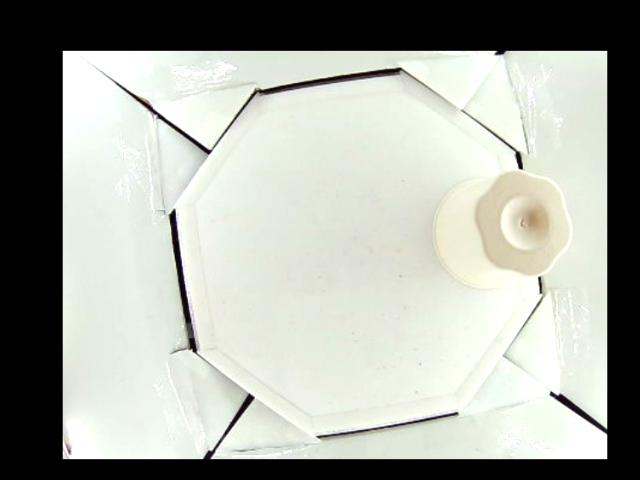Cup: (430, 171, 574, 286)
